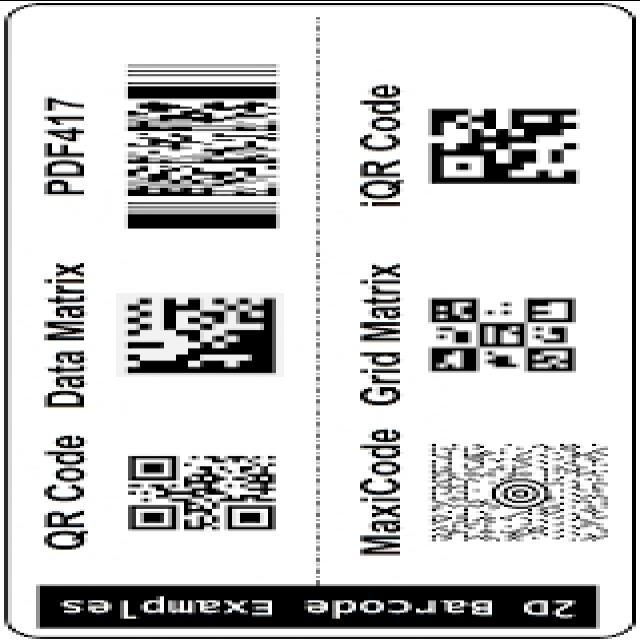Data-Matrix: (116, 292, 284, 376)
